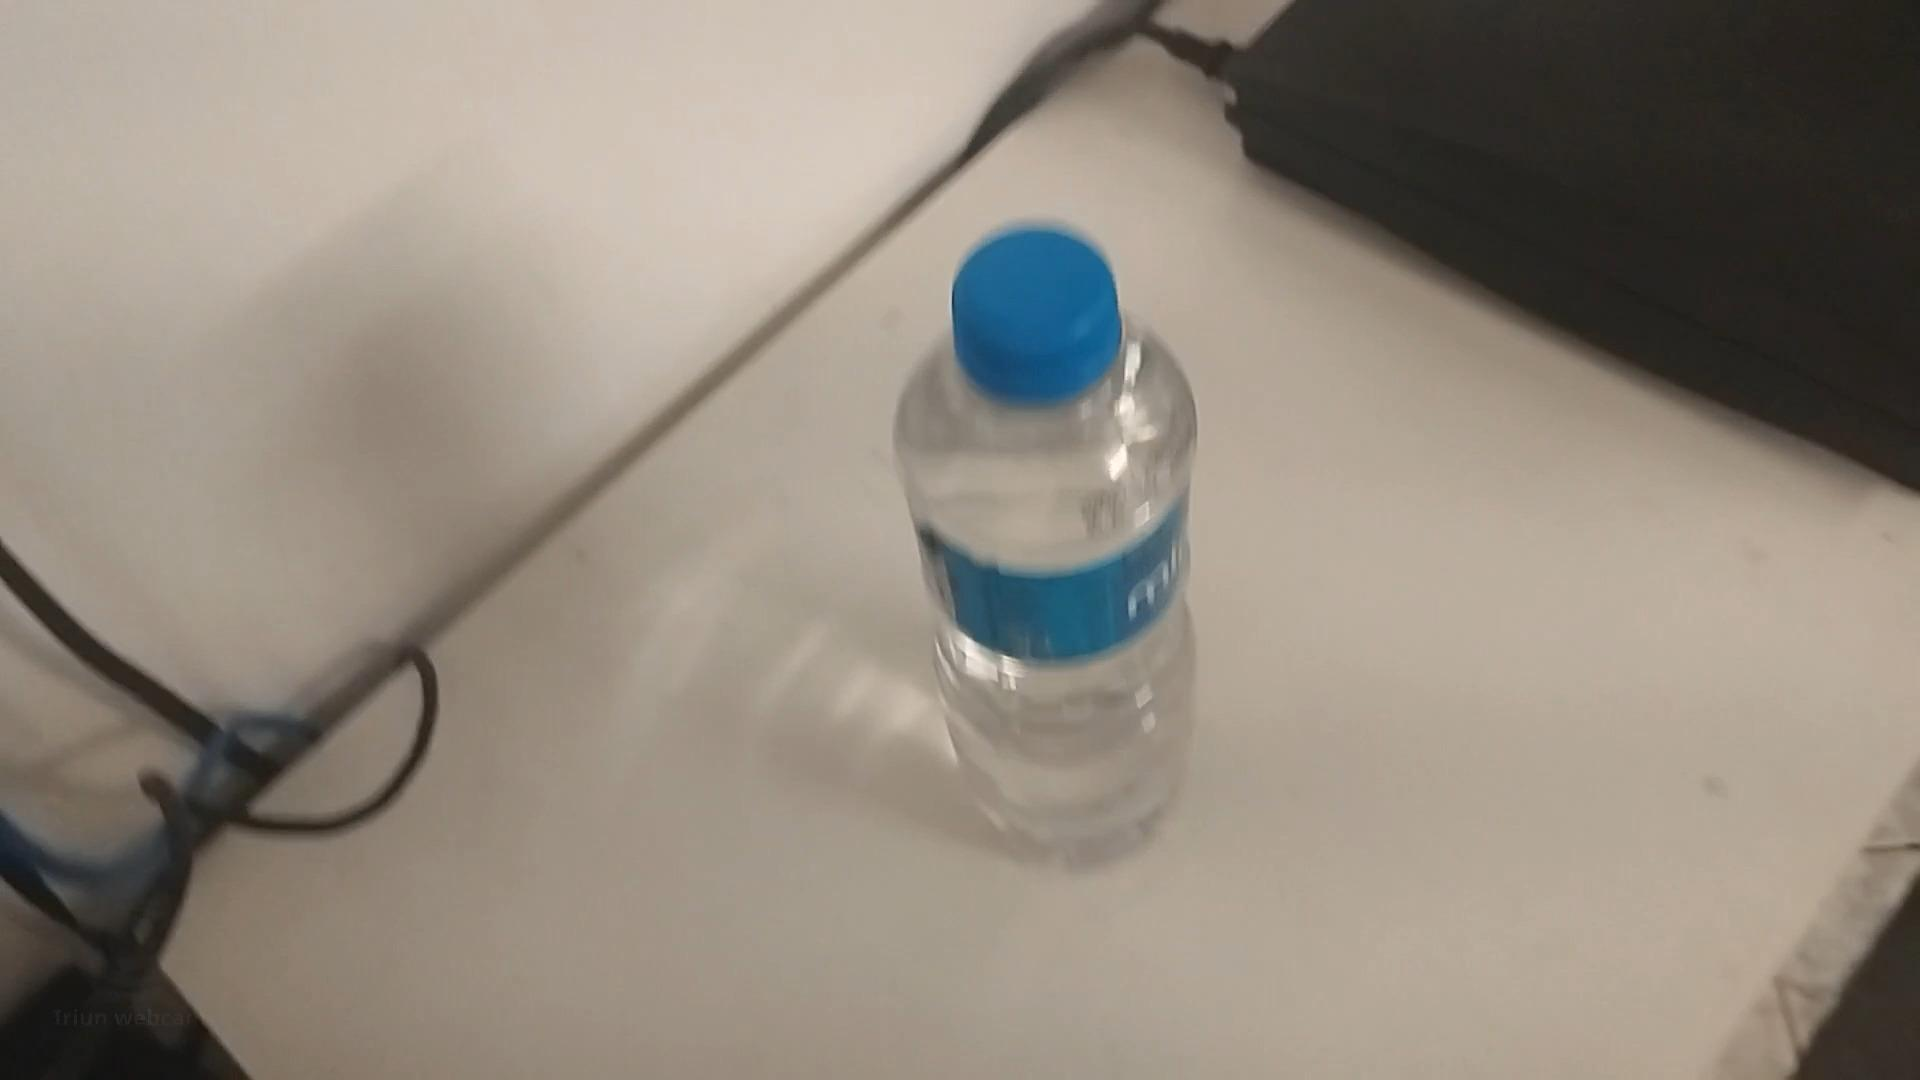agua: (893, 216, 1193, 862)
